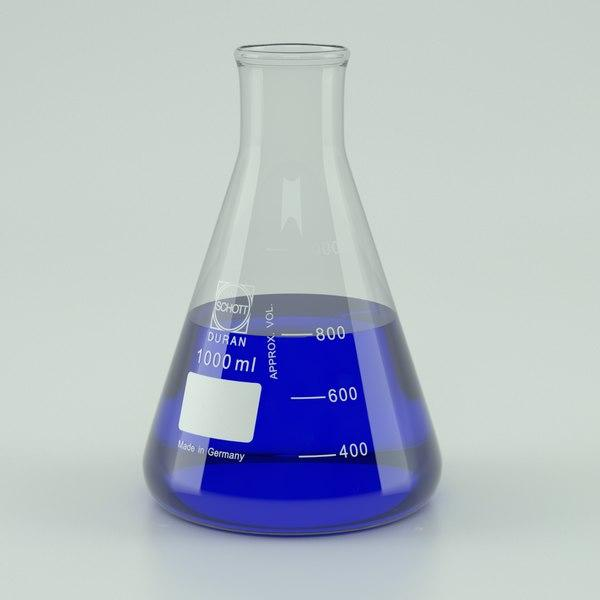Titrarion: (144, 40, 445, 537)
